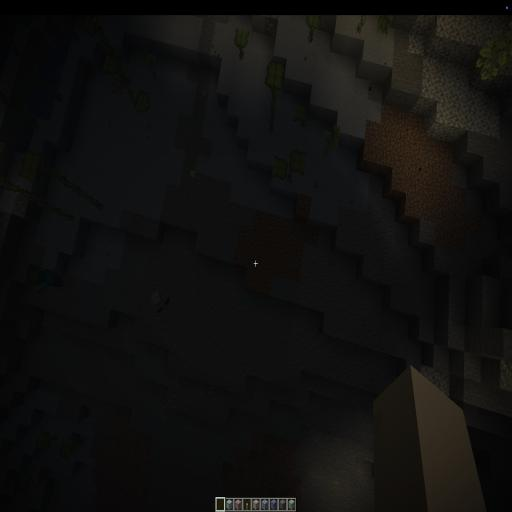emerald ore: (237, 290, 263, 322)
